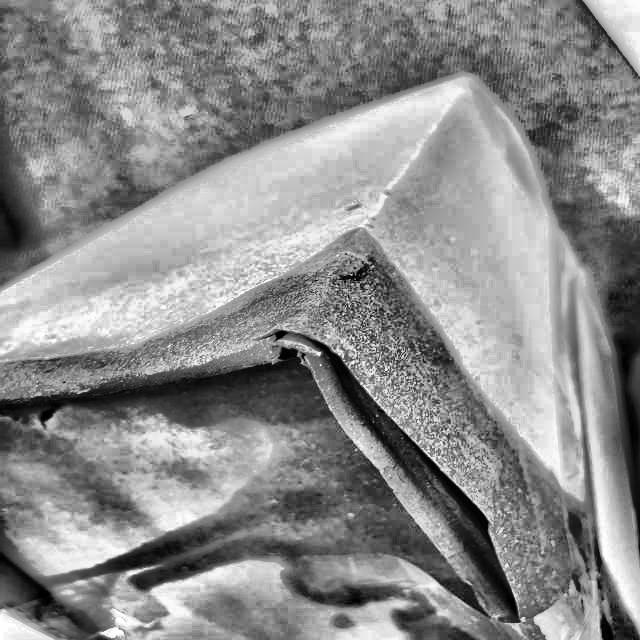box: (0, 65, 639, 639)
wet: (203, 230, 599, 639)
